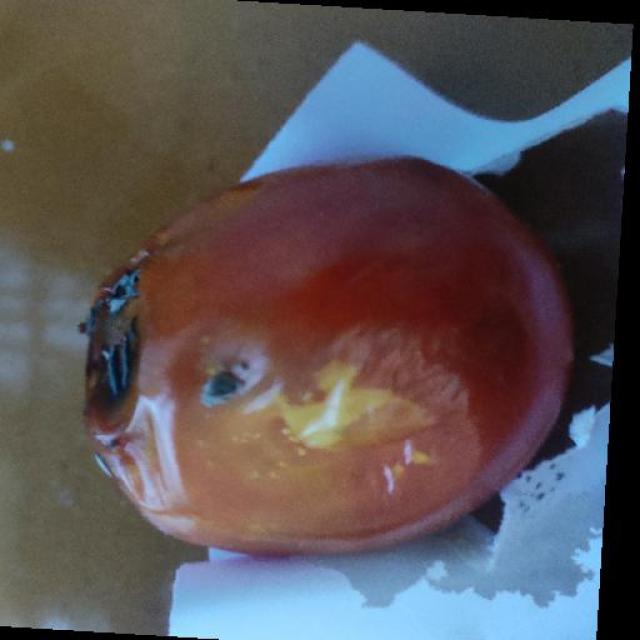Stale_tomato: (70, 188, 565, 543)
